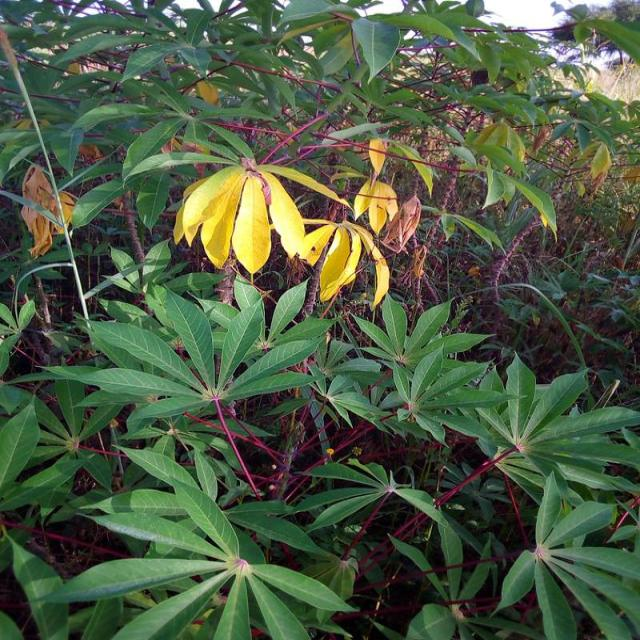cassava leaf: (174, 158, 306, 275)
